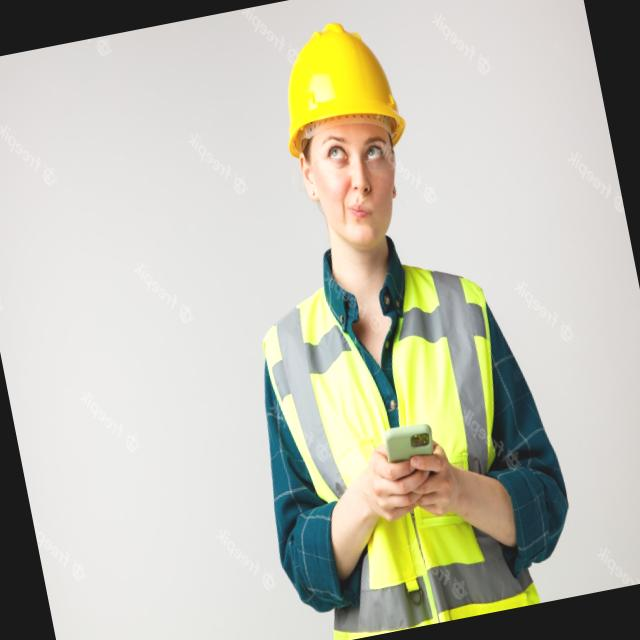helmet: (260, 6, 430, 159)
no-goggles: (288, 121, 408, 192)
vest: (234, 249, 562, 640)
